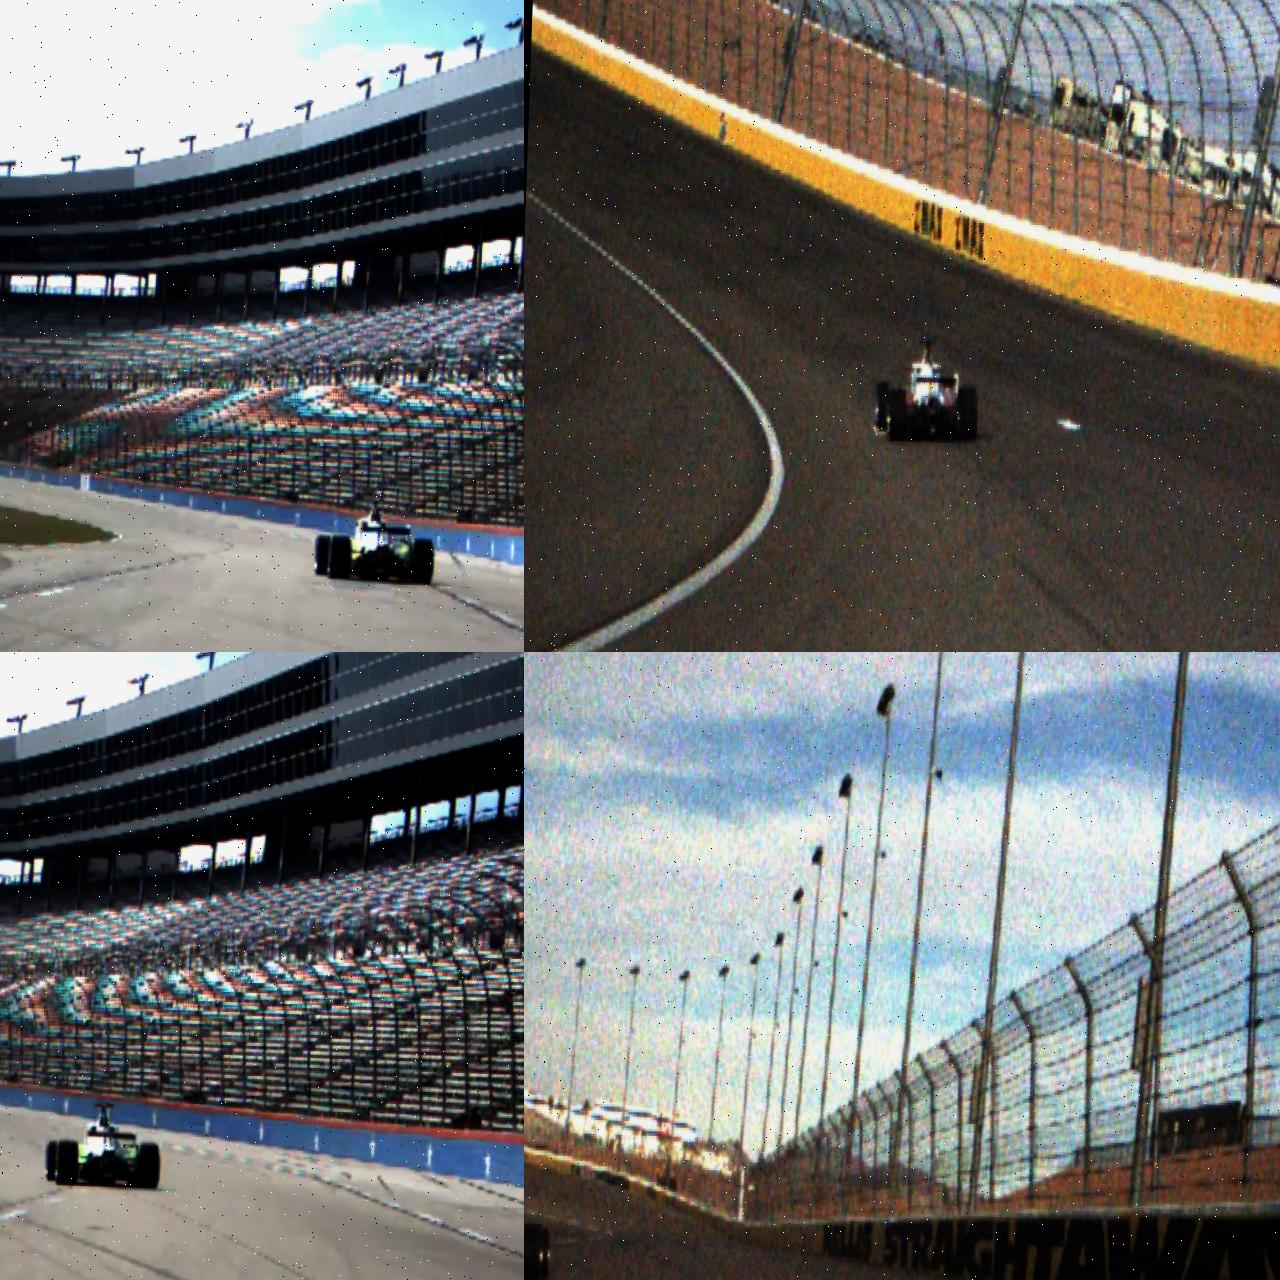AV: (874, 333, 980, 444), (313, 497, 436, 586), (45, 1101, 162, 1189), (524, 1173, 553, 1280)
Wheel: (958, 387, 979, 442), (137, 1142, 161, 1189), (524, 1223, 543, 1280), (413, 538, 435, 585), (56, 1139, 79, 1185), (888, 388, 906, 442), (329, 535, 350, 579), (314, 533, 334, 576), (536, 1228, 551, 1278), (874, 381, 888, 431), (45, 1141, 60, 1182)
